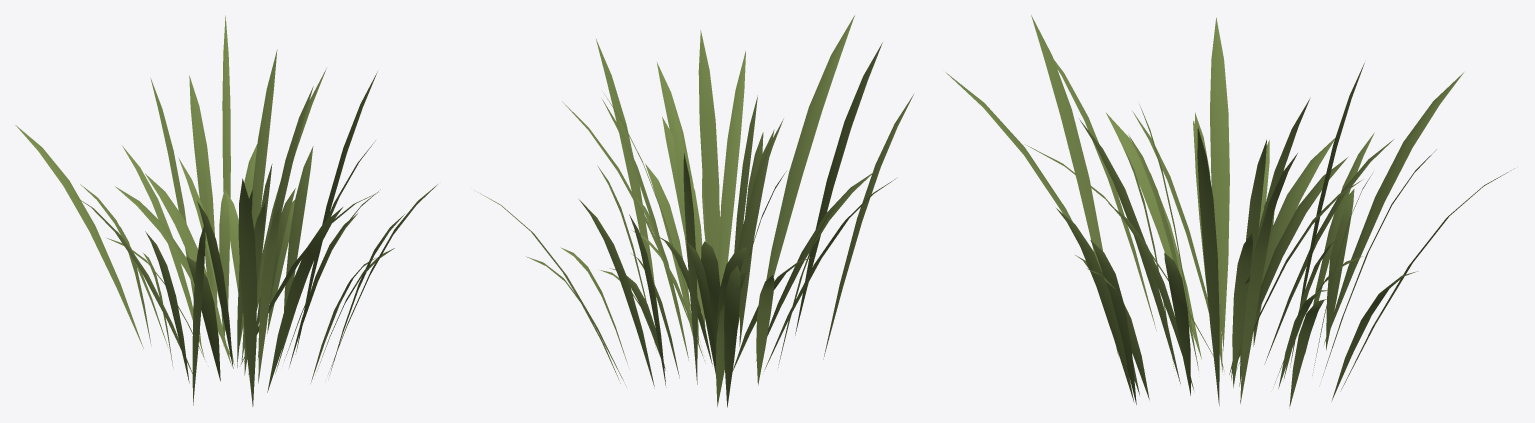
Rendered from garden-grass-1.glb.
3 renders of one model, left to right at view 1: azimuth 30°, elevation 25°; view 2: azimuth 150°, elevation 25°; view 3: azimuth 270°, elevation 25°, orthographic. The views are drawn at different scales.
Visible parts, largest first — view 1: Fine arcing grass blades; view 2: Fine arcing grass blades; view 3: Fine arcing grass blades.
Boxes of the visible parts, x1=… form: Fine arcing grass blades: x1=15, y1=15, x2=437, y2=406; Fine arcing grass blades: x1=474, y1=15, x2=914, y2=407; Fine arcing grass blades: x1=945, y1=15, x2=1514, y2=408.
Size of the model in its own units: 0.3678 by 0.3185 by 0.5147.
